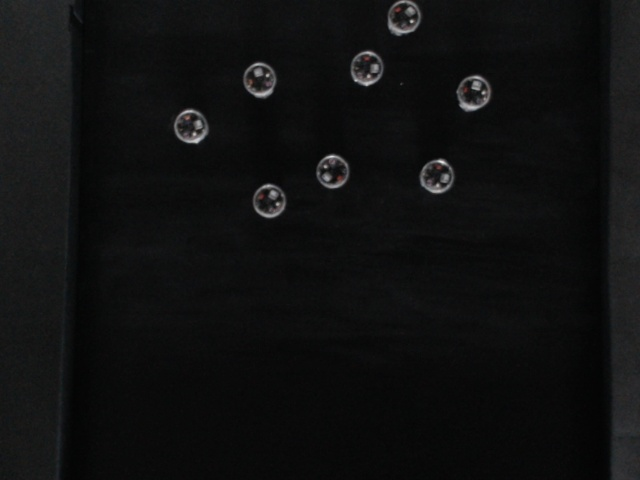epuck_2: (417, 154, 455, 194), (455, 71, 492, 112), (386, 1, 424, 38), (252, 183, 288, 220), (243, 60, 277, 99), (315, 151, 349, 189), (173, 108, 208, 144), (350, 49, 383, 87)
